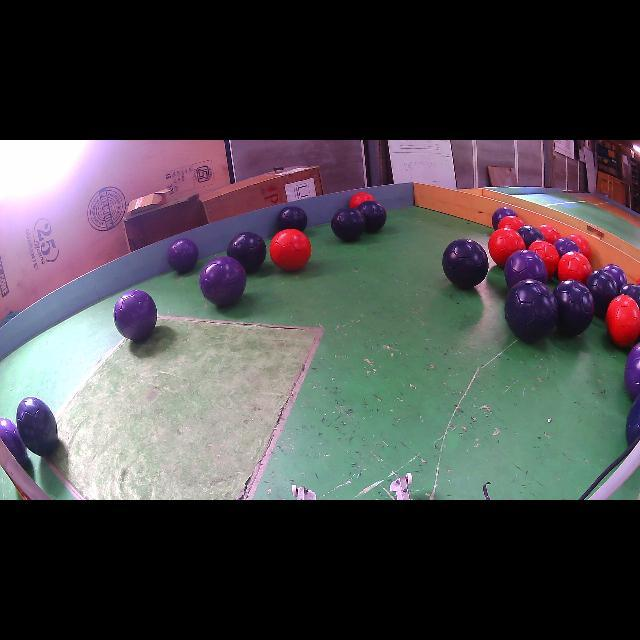B: (505, 280, 559, 342), (16, 396, 58, 456), (442, 239, 489, 289), (554, 280, 594, 336), (586, 270, 619, 317), (228, 231, 266, 271), (331, 208, 366, 241), (358, 201, 386, 231), (276, 206, 308, 231), (626, 394, 640, 444), (518, 225, 545, 248), (620, 284, 640, 308)
P: (199, 256, 246, 306), (114, 290, 158, 340), (505, 250, 548, 288), (0, 418, 29, 466), (168, 239, 199, 273), (625, 342, 640, 399), (602, 264, 628, 291), (492, 206, 518, 230), (554, 238, 581, 258)
R: (606, 295, 640, 348), (270, 229, 311, 270), (489, 229, 525, 268), (529, 240, 560, 279), (558, 251, 592, 284), (569, 234, 591, 260), (539, 225, 561, 244), (349, 192, 375, 208), (498, 216, 525, 231)
